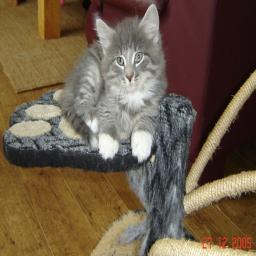catnose: (126, 74, 133, 83)
